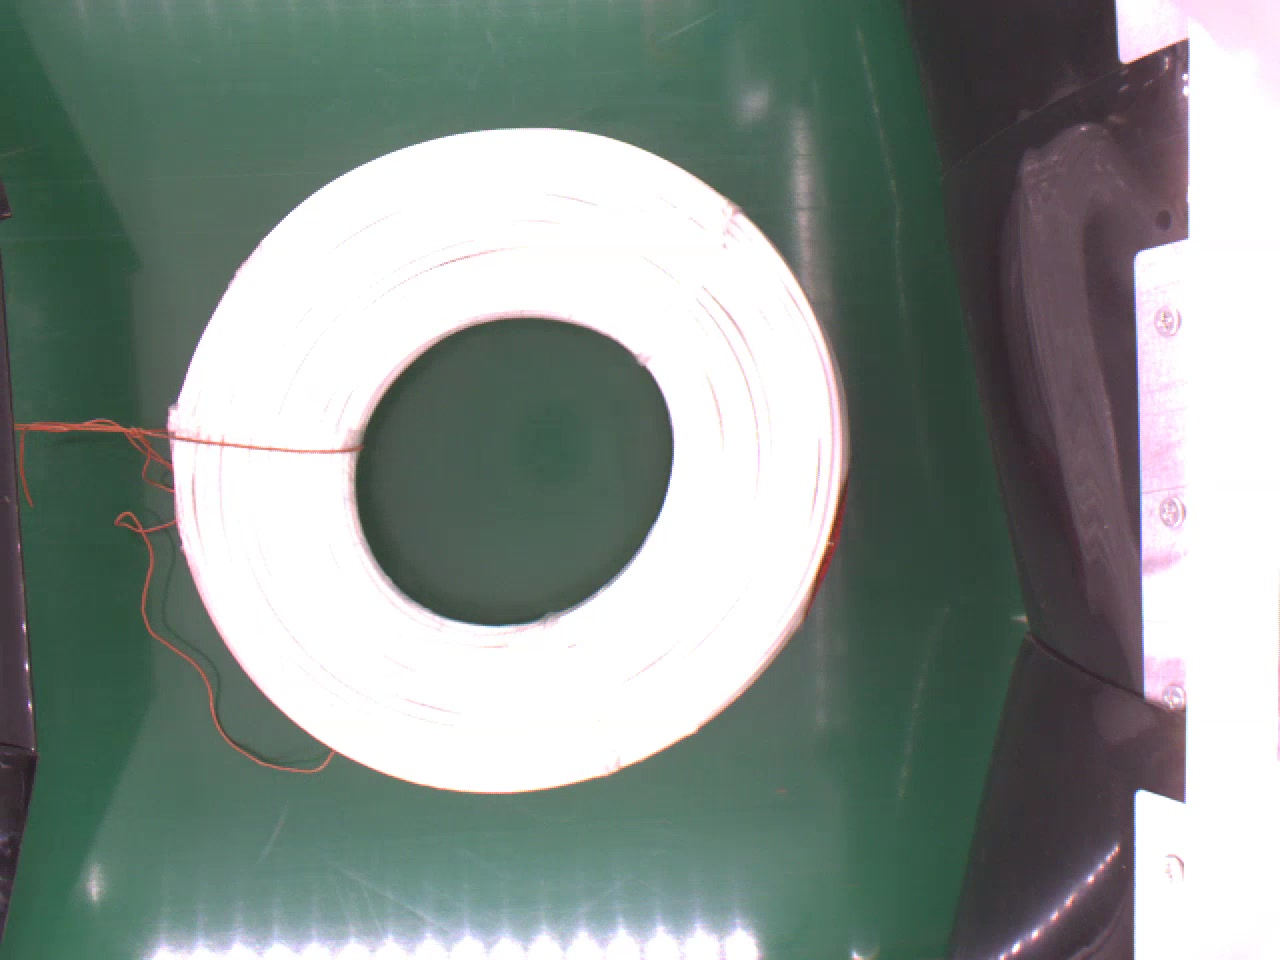white: (156, 125, 866, 796)
